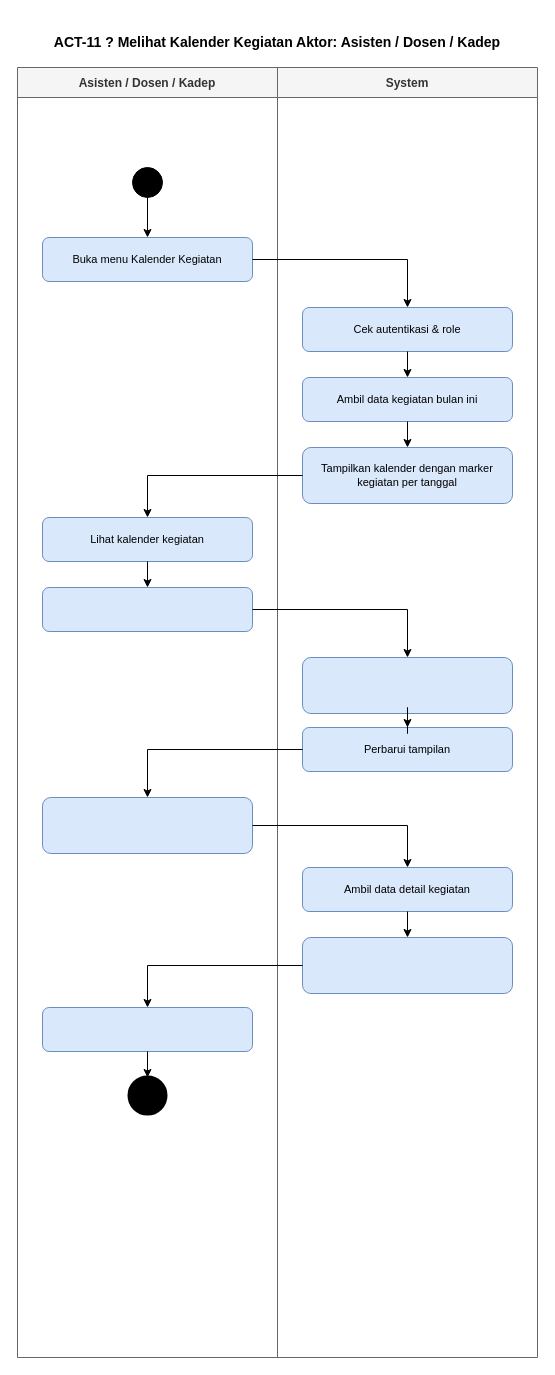
This 555x1375 diagram has some shape labels left out. The box of each missing label's shape, as (x1, y1, x2, y2) in pixels:
Klik event di kalender (opsional): (42, 796, 252, 854)
Lihat detail kegiatan: (42, 1006, 252, 1052)
Muat kegiatan bulan/minggu yang dipilih: (302, 656, 512, 714)
Navigasi bulan / minggu (opsional): (42, 586, 252, 632)
Tampilkan popup / halaman detail (nama, tanggal, tempat, deskripsi): (302, 936, 512, 994)
